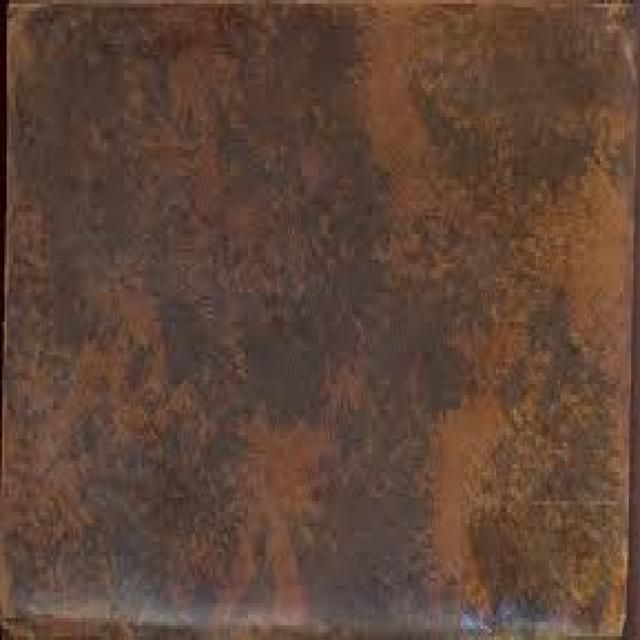Rotten surface: (407, 336, 536, 568), (228, 381, 338, 604), (351, 31, 464, 203), (522, 161, 626, 325)
